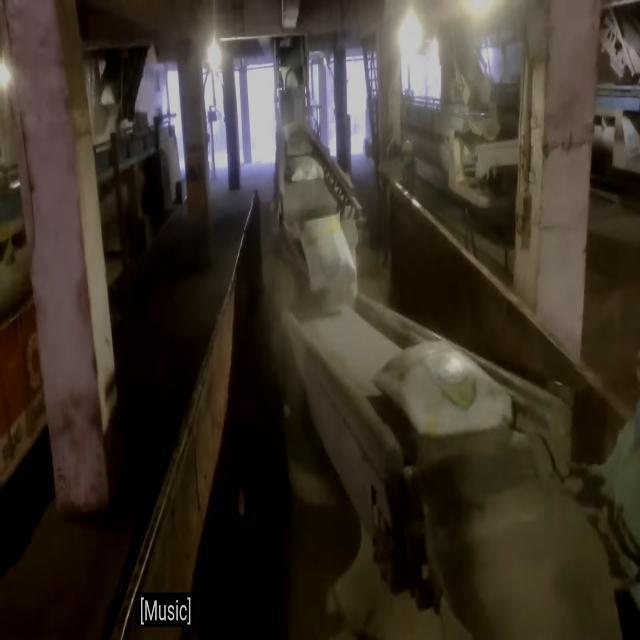gunny_bag: (375, 340, 513, 437), (300, 213, 357, 304), (286, 154, 324, 181)
